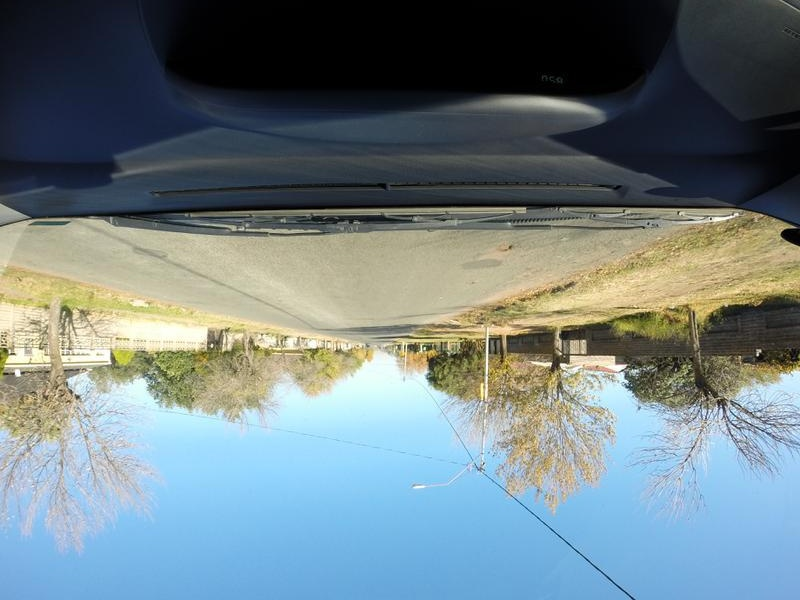pothole: (491, 244, 517, 255)
